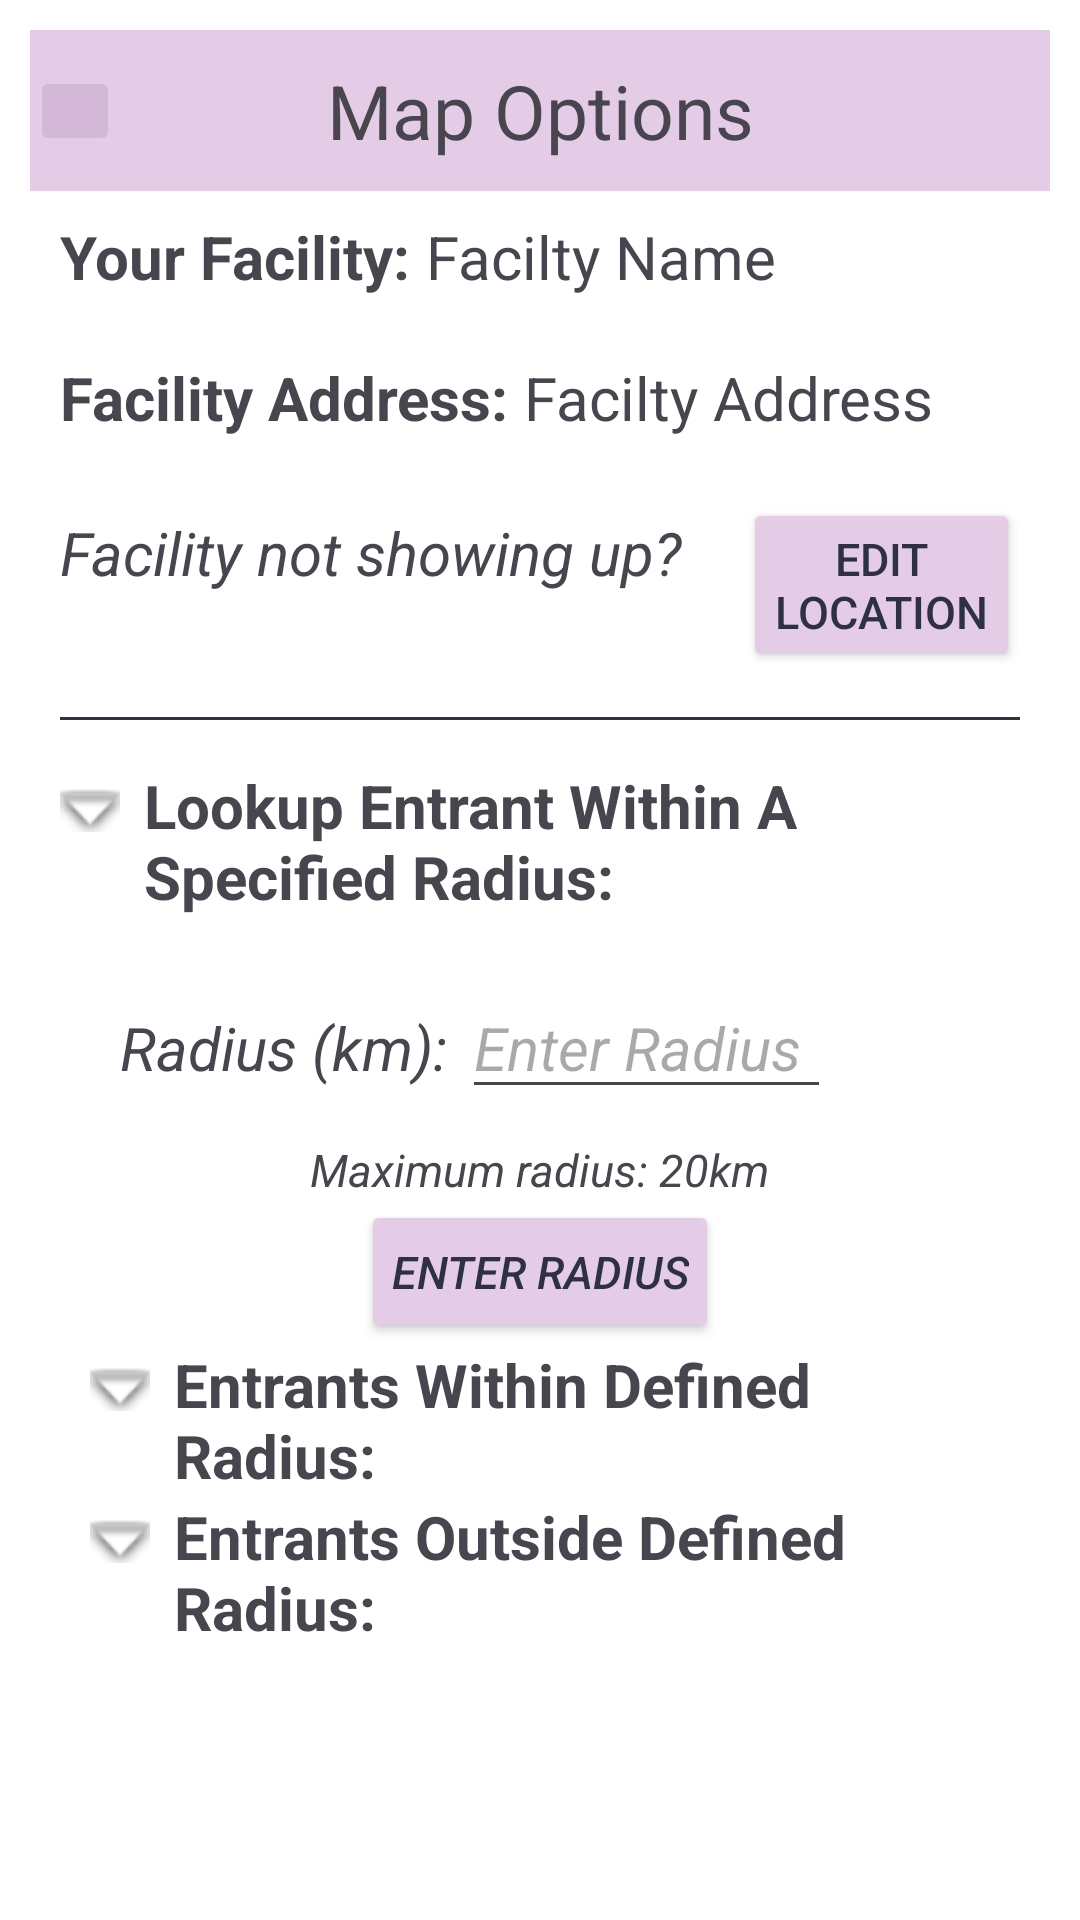

Named icons in this screenshot (1080w x 1920h) and their centers, (x,y):
arrow down float: (90,810), (120,1389), (120,1541)
